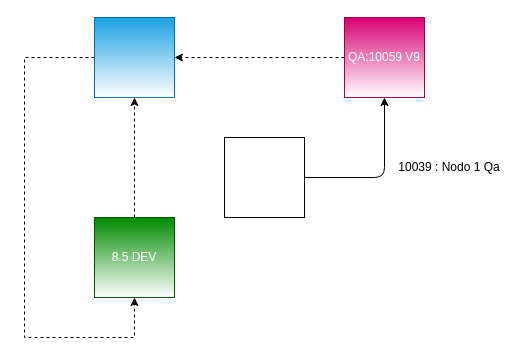
The diagram is 522 pixels wide and 363 high, and some of its shapes have lost their labels. The shapes that lost their labels are listed below. From the top down, each one's centre as x and y in pixels, then its label:
(x=134, y=57): CLON
(x=264, y=177): DEV V9
